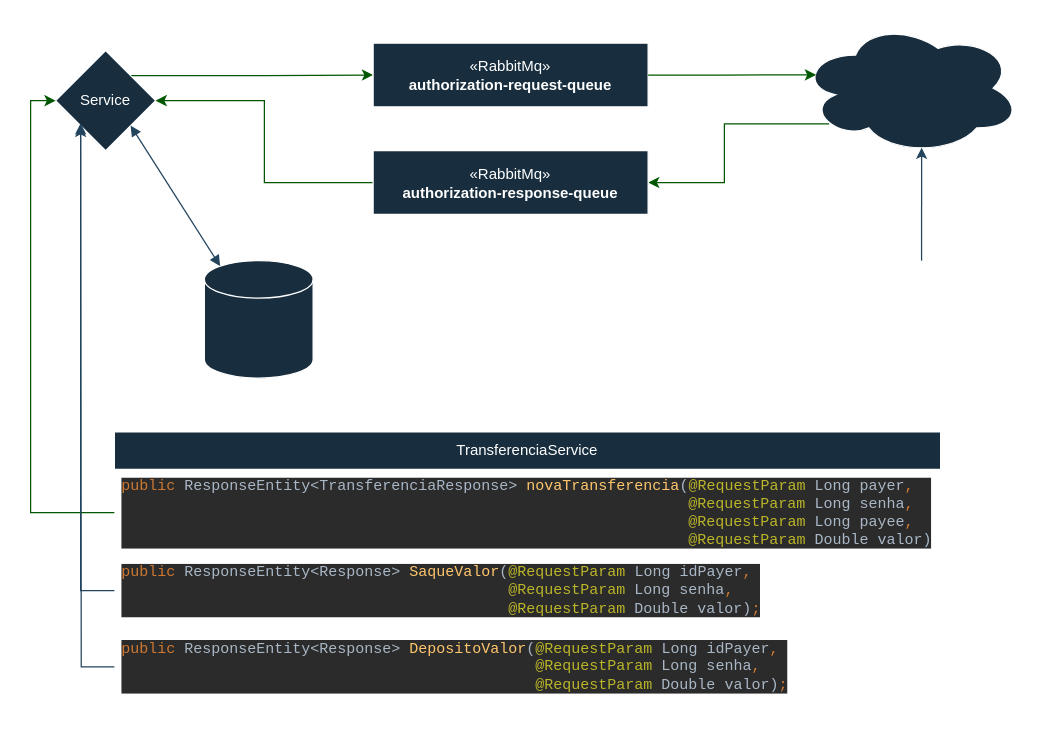
Some shapes in this 1043 by 730 pixel diagram are drawn without their labels. Each missing label, with the centre of its shape:
"desafioPicpay" belongs at point 258,318.
"Ms_Authorization" belongs at point 910,87.
